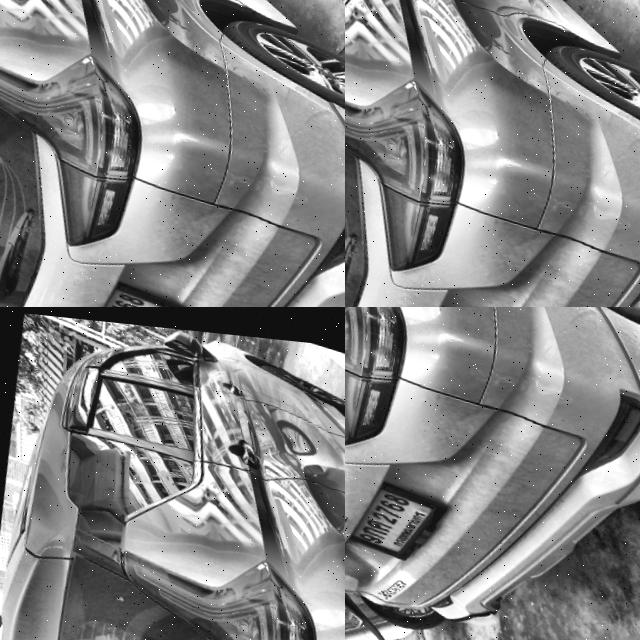license-plate: (345, 464, 444, 564)
